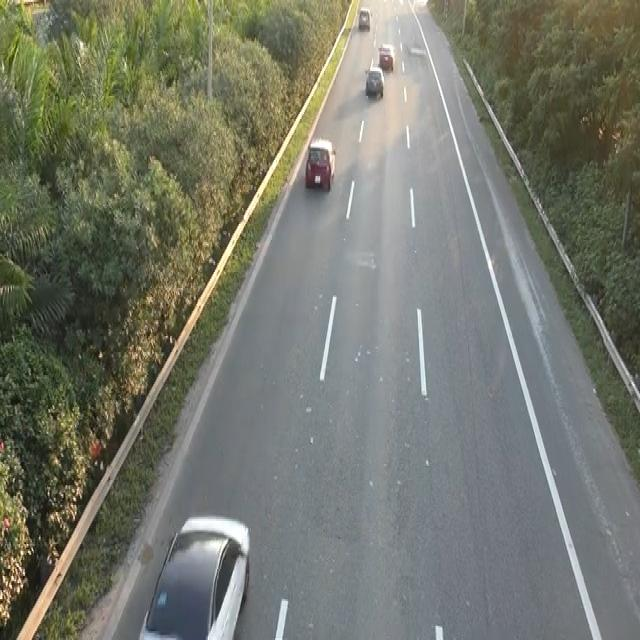bus: (137, 510, 254, 638), (303, 135, 336, 192), (364, 64, 384, 98), (357, 6, 371, 30)
